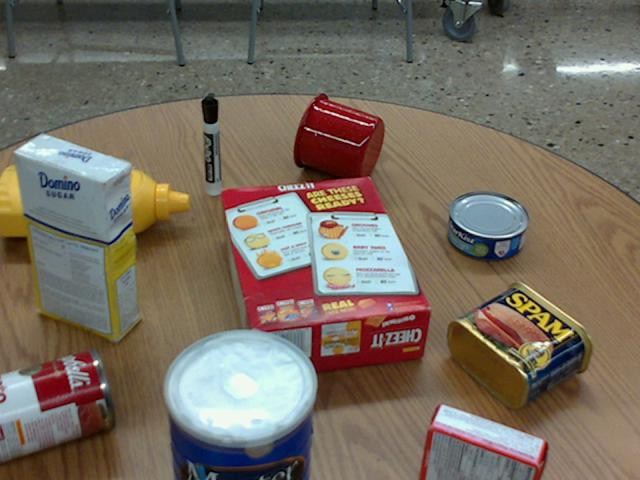cracker_box: (218, 177, 430, 375)
gelatin_box: (419, 402, 547, 479)
large_marker: (201, 96, 220, 194)
master_chef_can: (160, 329, 312, 479)
mug: (293, 93, 384, 183)
mustard_bottle: (0, 166, 187, 237)
potted_meat_can: (449, 281, 592, 409)
sugar_box: (14, 133, 136, 341)
tomato_soup_can: (0, 347, 114, 460)
tuna_fish_can: (447, 191, 529, 259)
